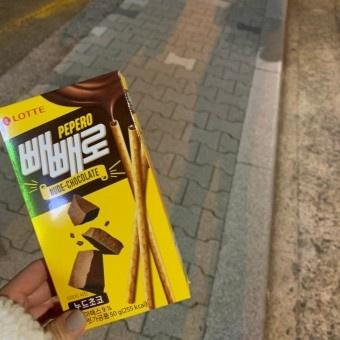snack: (0, 68, 194, 331)
